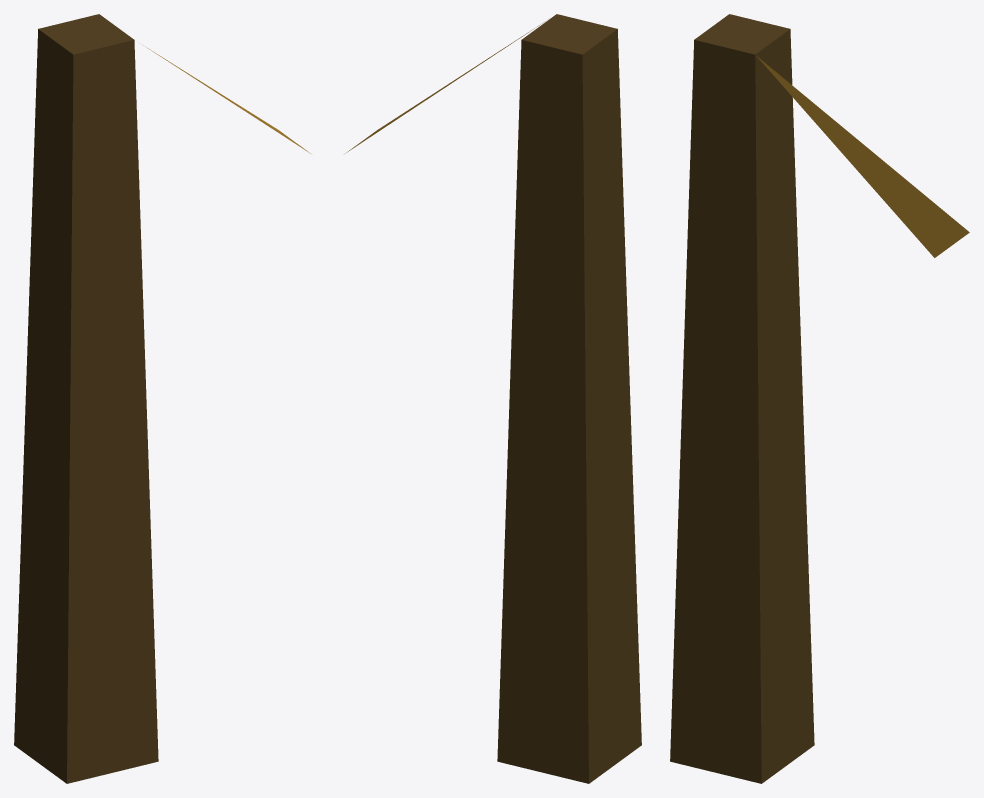
File: borderpost_trojan.obj
The picture shows the model from 3 angles, left to right: view 1: azimuth 30°, elevation 25°; view 2: azimuth 150°, elevation 25°; view 3: azimuth 330°, elevation 25°; orthographic projection.
Parts seen in each view (by area): view 1: borderpost; view 2: borderpost; view 3: borderpost.
Boxes of the visible parts, bbox=[...] form: borderpost: bbox=[14, 14, 310, 783]; borderpost: bbox=[345, 14, 641, 783]; borderpost: bbox=[670, 14, 969, 783].
Size of the model in its own units: 0.67 by 1.8 by 0.24.
